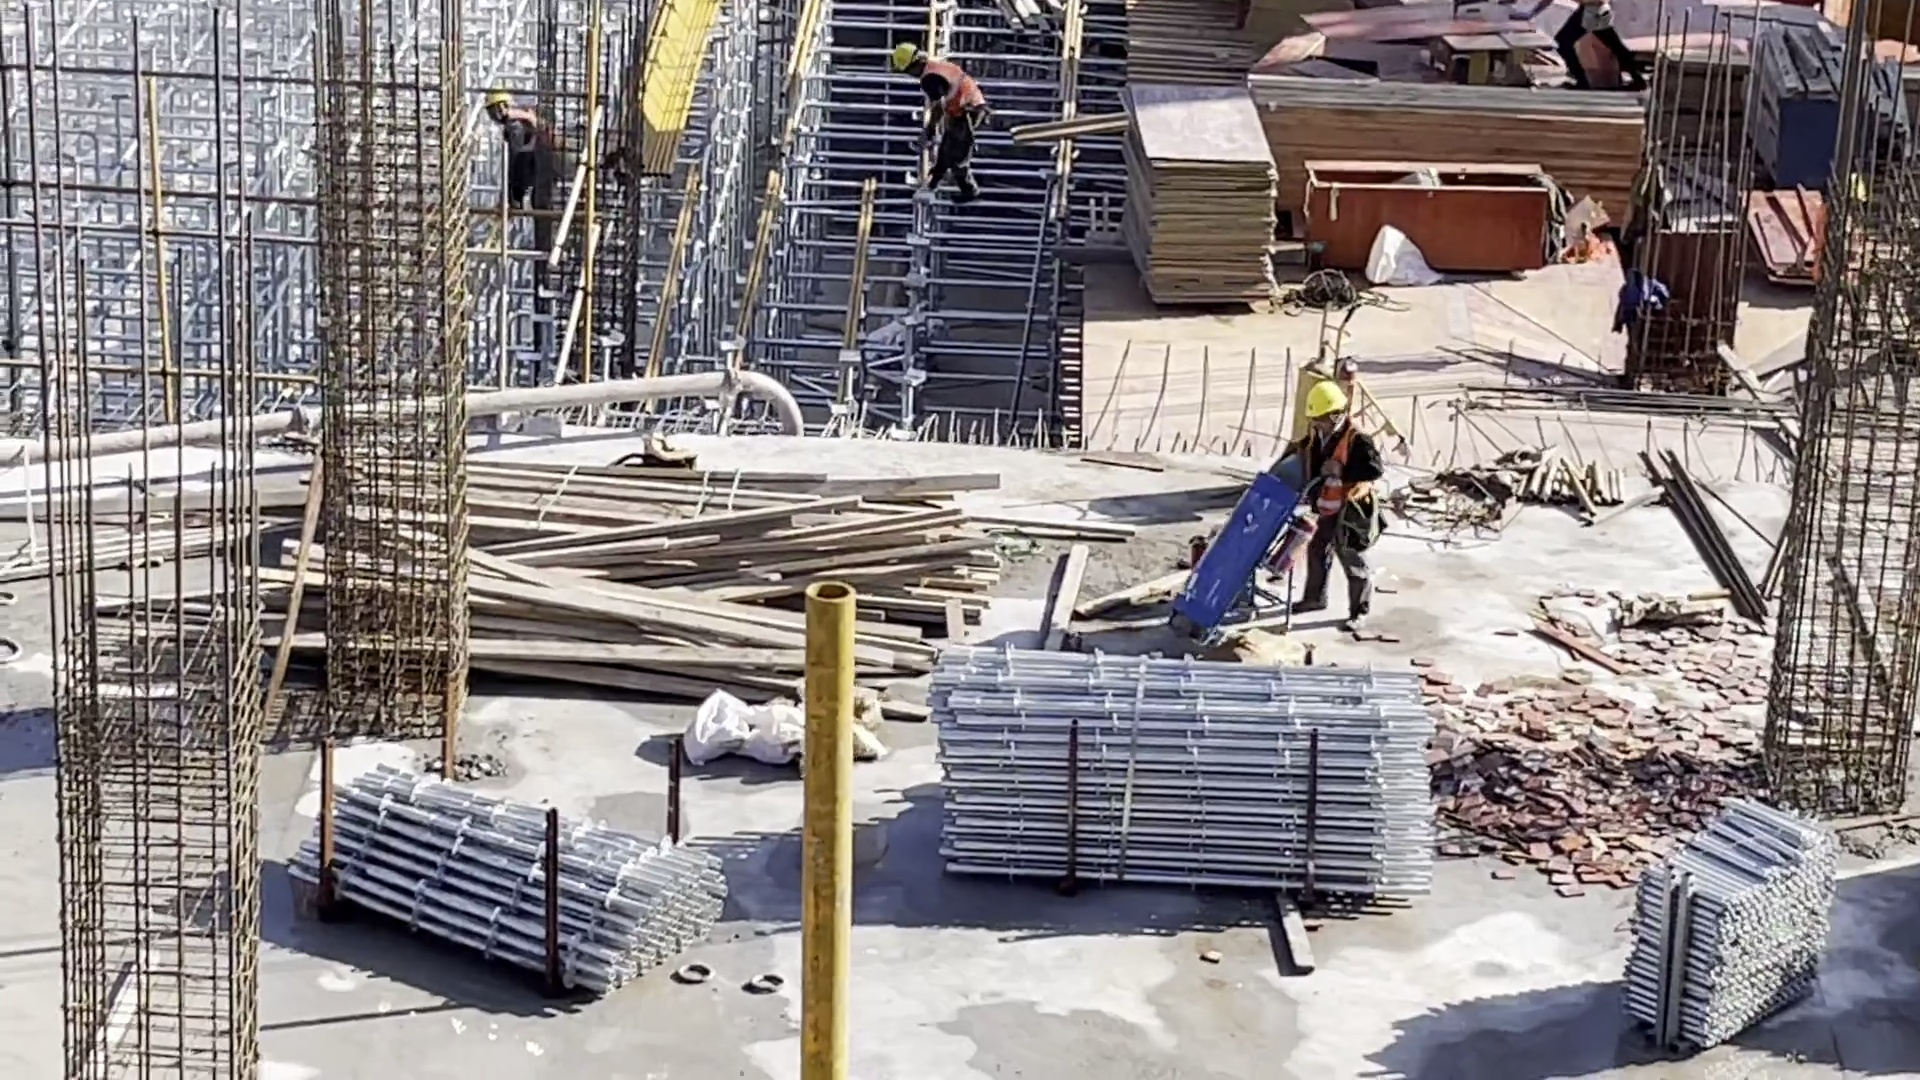board: (1118, 96, 1284, 316), (1132, 1, 1255, 92), (1742, 179, 1830, 288)
cutter: (1306, 1, 1557, 86)
helmet: (1299, 380, 1355, 423), (889, 42, 919, 70), (485, 89, 513, 114)
person: (1273, 369, 1394, 627), (878, 35, 990, 206), (476, 83, 592, 228), (1557, 1, 1647, 84)
rebar: (1633, 445, 1774, 623), (1447, 373, 1792, 427)
scaffold: (931, 645, 1450, 892), (285, 757, 739, 1008), (1615, 798, 1840, 1062)
vest: (1301, 423, 1375, 523), (929, 66, 993, 132)
wood: (422, 459, 992, 708), (1251, 75, 1647, 169)
